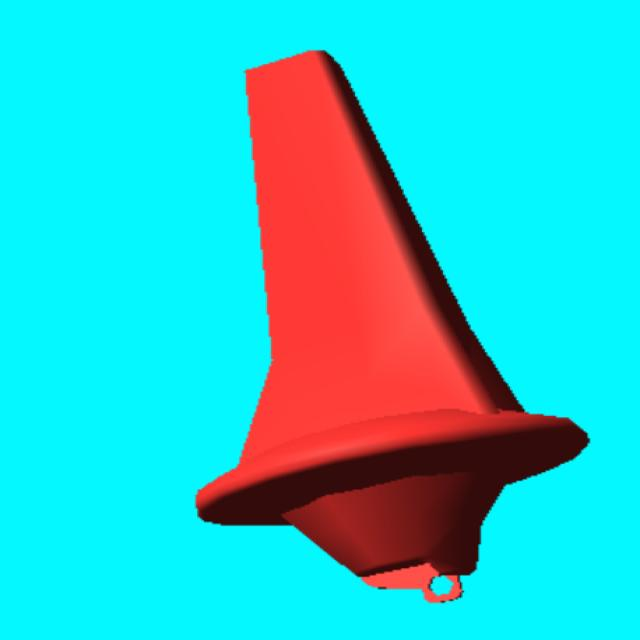RedBuoy: (199, 51, 587, 602)
